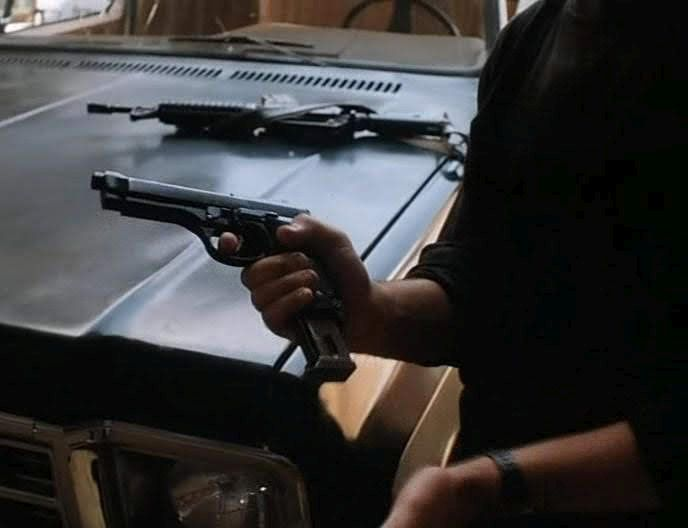gun: (68, 157, 375, 386), (51, 81, 480, 177)
